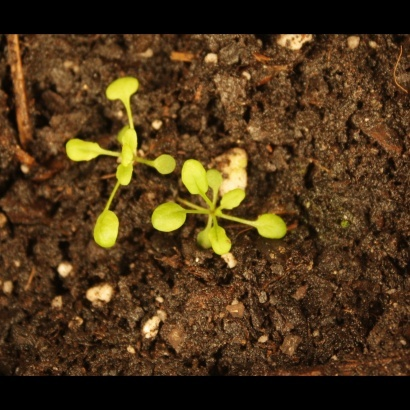leaf: (252, 203, 290, 249), (90, 204, 123, 256), (59, 130, 104, 168), (146, 197, 190, 233), (103, 72, 145, 106), (146, 146, 180, 182), (179, 157, 209, 195), (209, 221, 235, 259), (216, 184, 249, 213), (113, 160, 138, 192), (115, 121, 138, 152), (195, 225, 218, 249), (114, 142, 137, 165), (204, 167, 227, 190)
